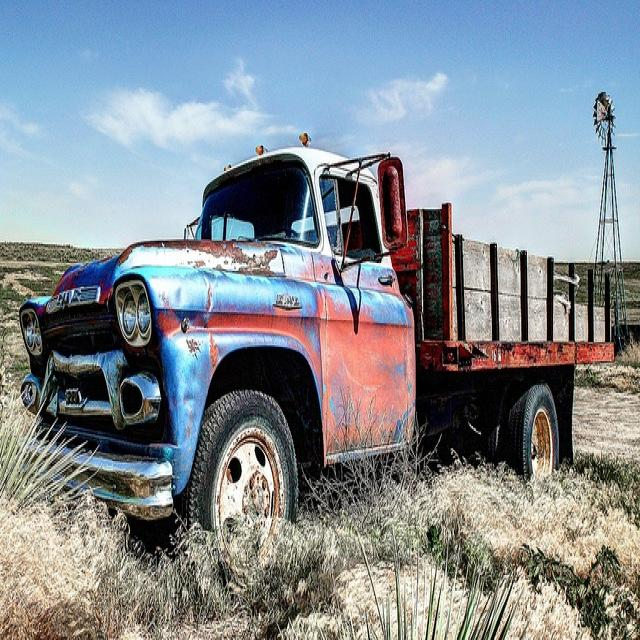truck: (16, 139, 614, 542)
